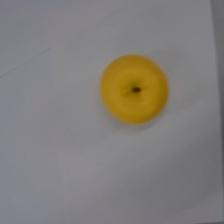yellow: (96, 52, 170, 129)
